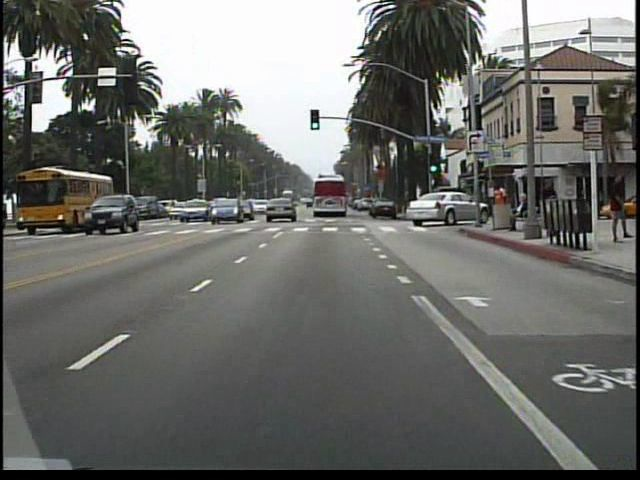person: (602, 169, 628, 245), (539, 177, 559, 230), (490, 180, 508, 229), (510, 186, 528, 234)
